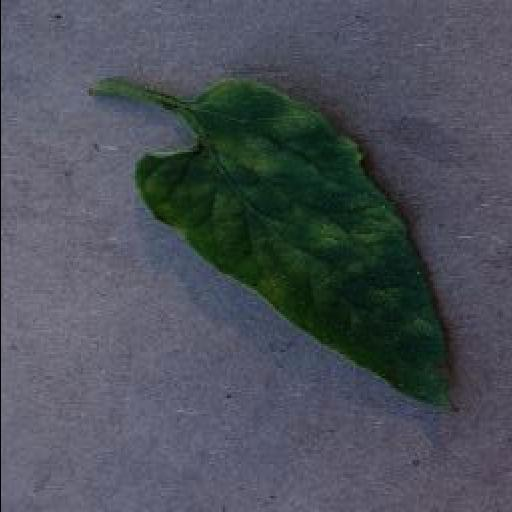disease_tomato: (137, 82, 459, 411)
